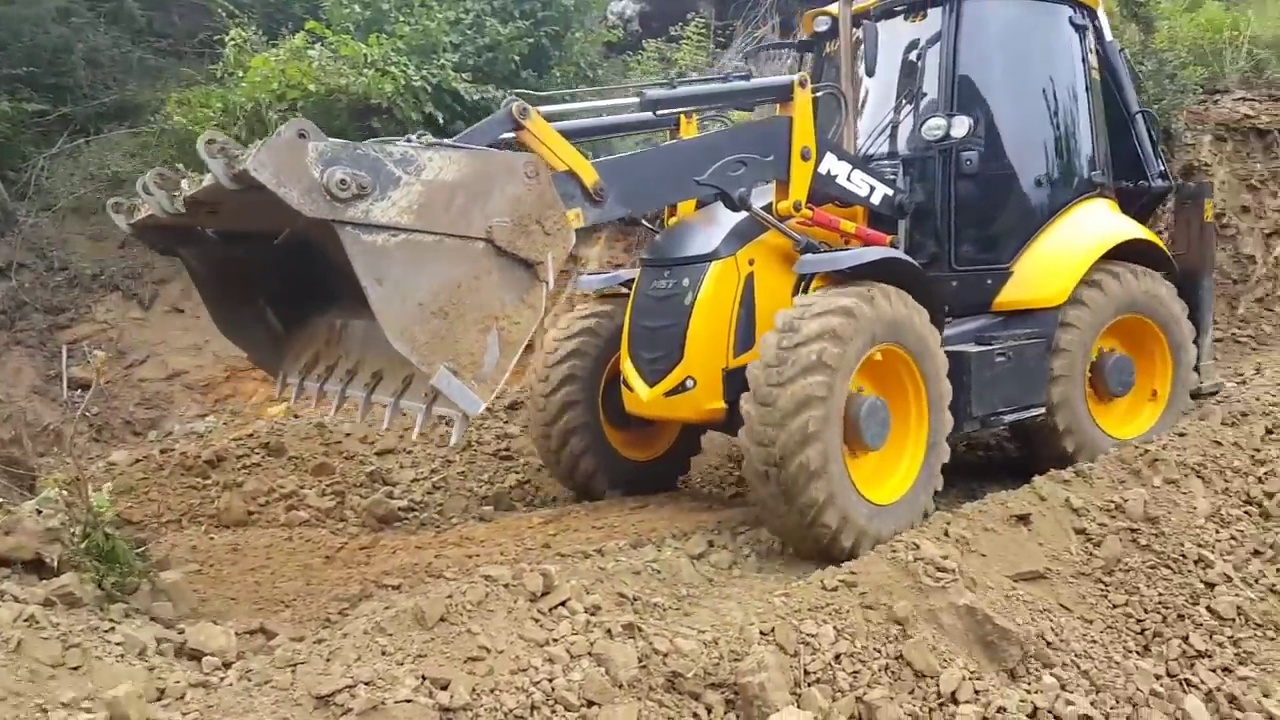wheel loader: (106, 8, 1217, 567)
